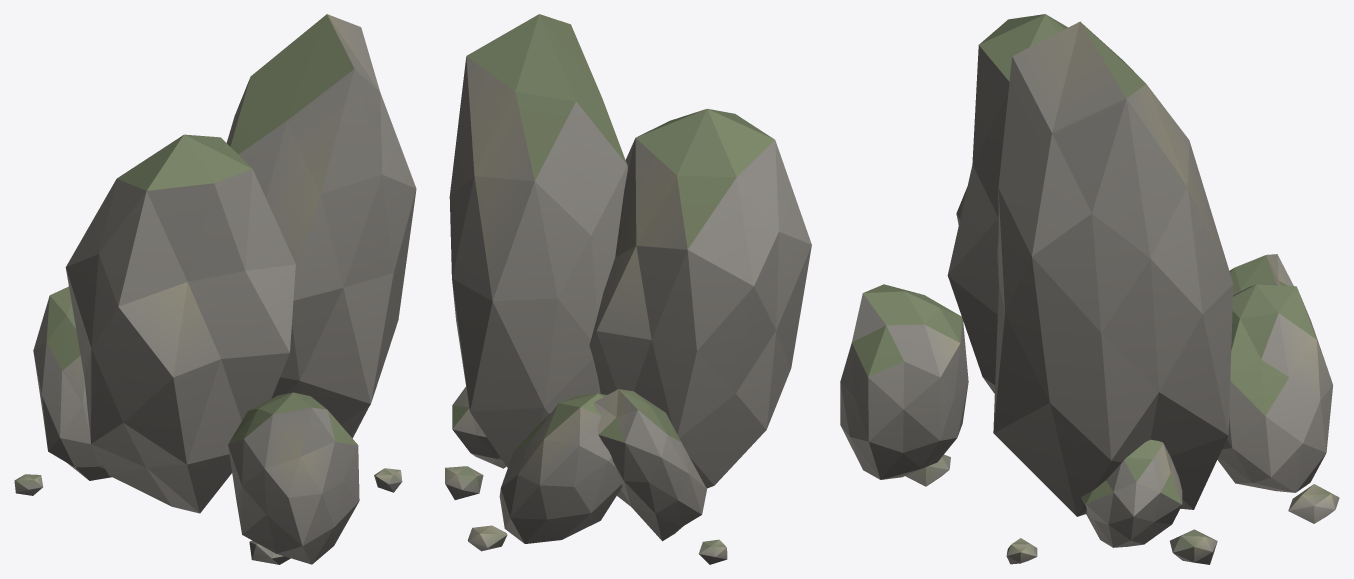
Rendered from rock_formation_c.glb.
3 views of the same model, side by side, from view 1: azimuth 30°, elevation 25°; view 2: azimuth 150°, elevation 25°; view 3: azimuth 270°, elevation 25° (orthographic). The views are drawn at different scales.
Visible parts, largest first — view 1: rock_formation_c; view 2: rock_formation_c; view 3: rock_formation_c.
Boxes of the visible parts, x1,y1,x2,y2 form: rock_formation_c: (14,14,416,564); rock_formation_c: (445,14,811,564); rock_formation_c: (840,14,1339,564).
Bounding box in the file's own units: 1.46 × 2.02 × 1.74.
